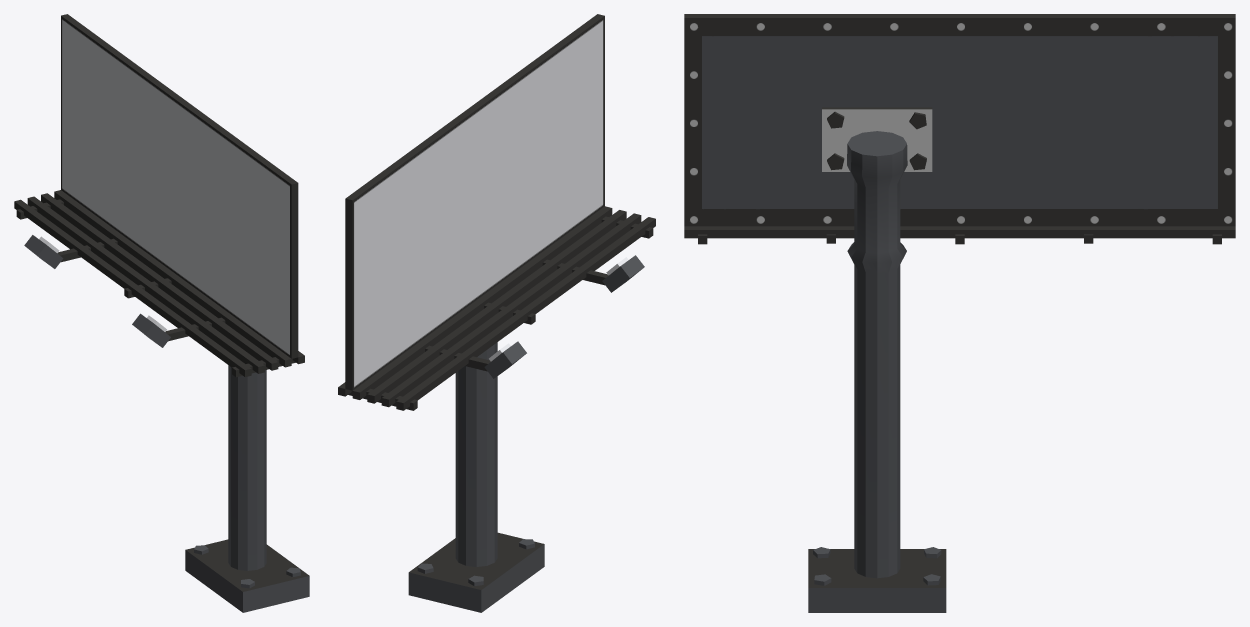
File: Billboard.glb
The picture shows the model from 3 angles, left to right: view 1: azimuth 30°, elevation 25°; view 2: azimuth 150°, elevation 25°; view 3: azimuth 270°, elevation 25°; orthographic projection. The views are drawn at different scales.
Visible parts, largest first — view 1: b, a; view 2: b, a; view 3: b, a.
Part boxes in pixels (left/top/right/bottom): b: left=14, top=14, right=304, bottom=377; a: left=185, top=365, right=309, bottom=612; b: left=338, top=14, right=655, bottom=410; a: left=408, top=342, right=544, bottom=612; b: left=684, top=14, right=1235, bottom=244; a: left=808, top=131, right=946, bottom=612.
Bounding box in the file's own units: 242 × 670 × 600.
Materials: 1 (1 with a texture image).
